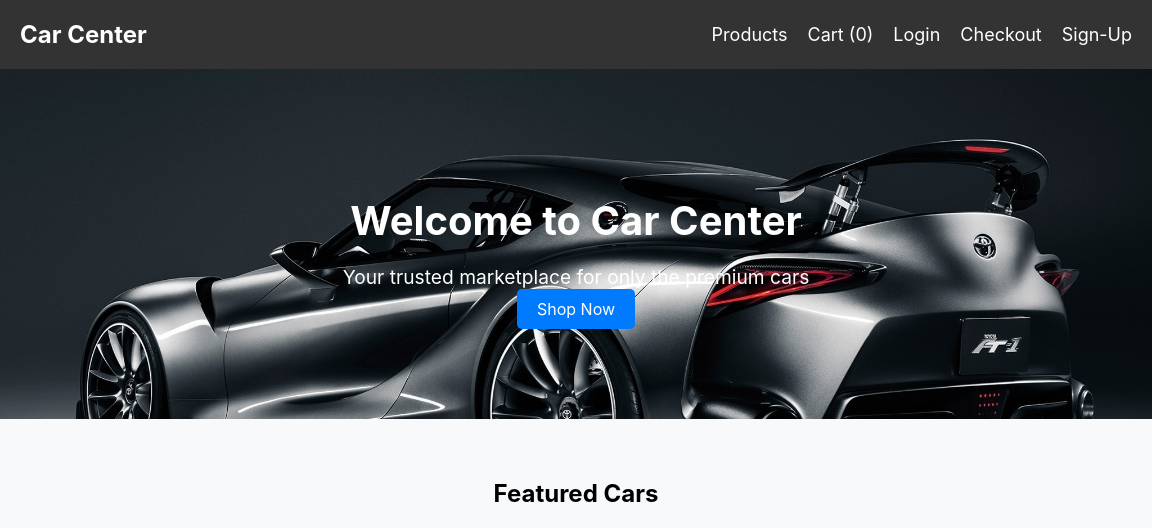
Test: checkout redirects to login when not signed in
What coordinates should you click on to do the following:
click the link "Checkout"
I would click on:
 (1001, 34)
Its box is left=960, top=24, right=1042, bottom=45.
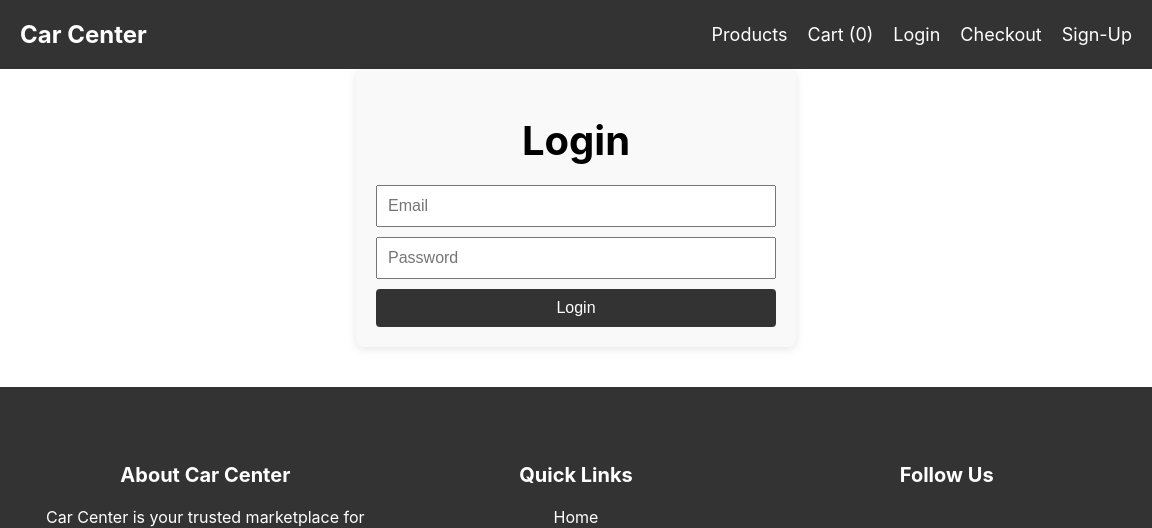
Expected: the heading "Login" is shown, left=522, top=116, right=630, bottom=165
